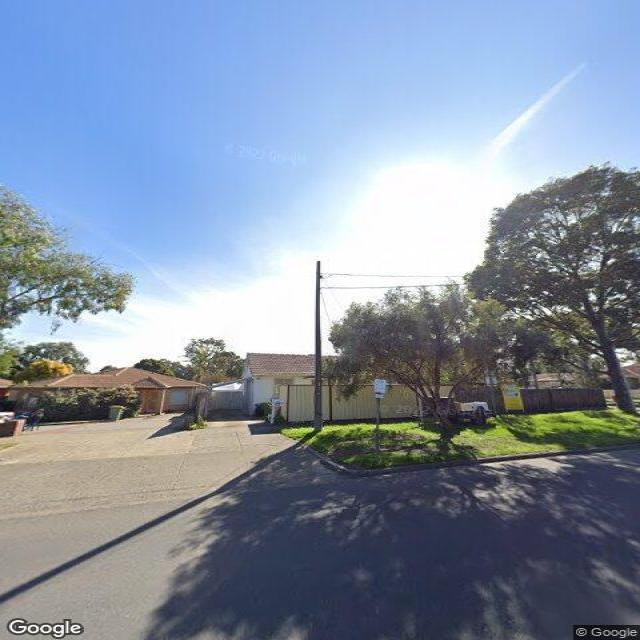timber-pole: (314, 260, 323, 432)
